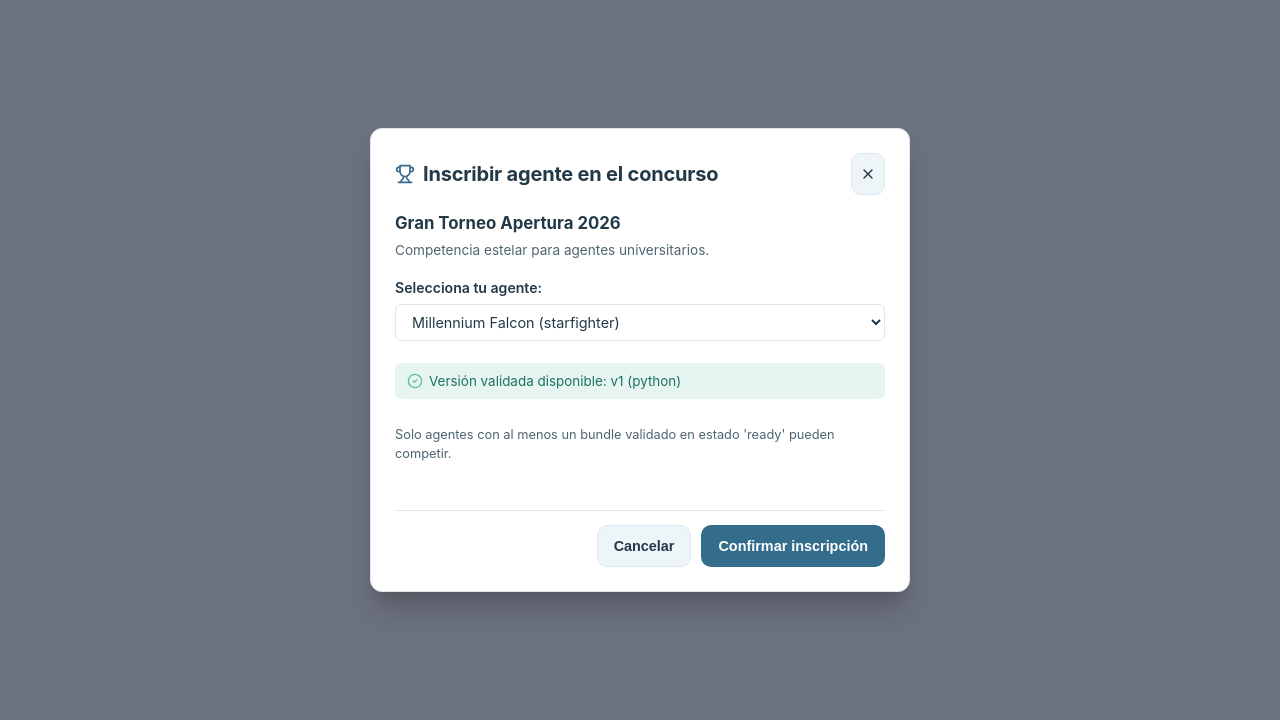
Test: Sprint FQ-5: Tournament Experience & Real-Time Rankings › EnrollAgentModal Guided Enrollment › handles 409 conflict when agent is already enrolled
Expected: the text "Versión validada disponible: v1 (python)" is shown, [429,371,681,391]
Click the button "Confirmar inscripción".
click(793, 546)  # box [702,525,885,567]
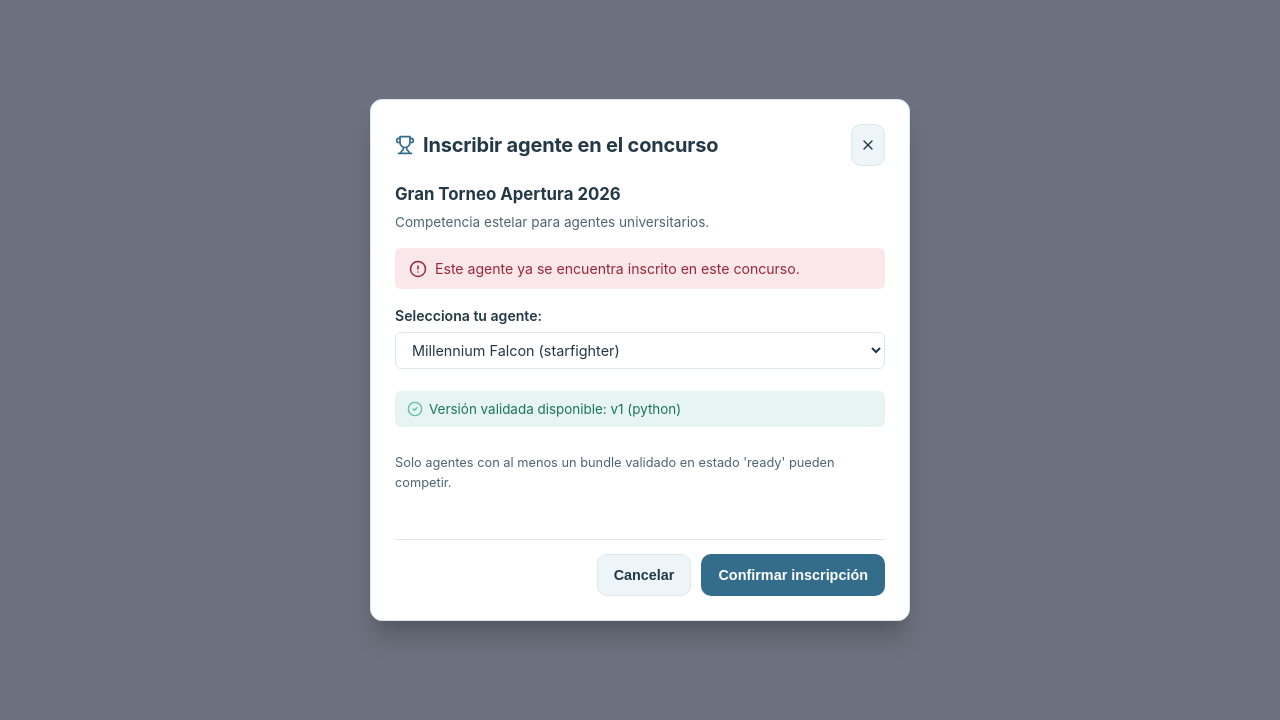
Now the message shows "ya se encuentra inscrito", box [435,260,800,277]
